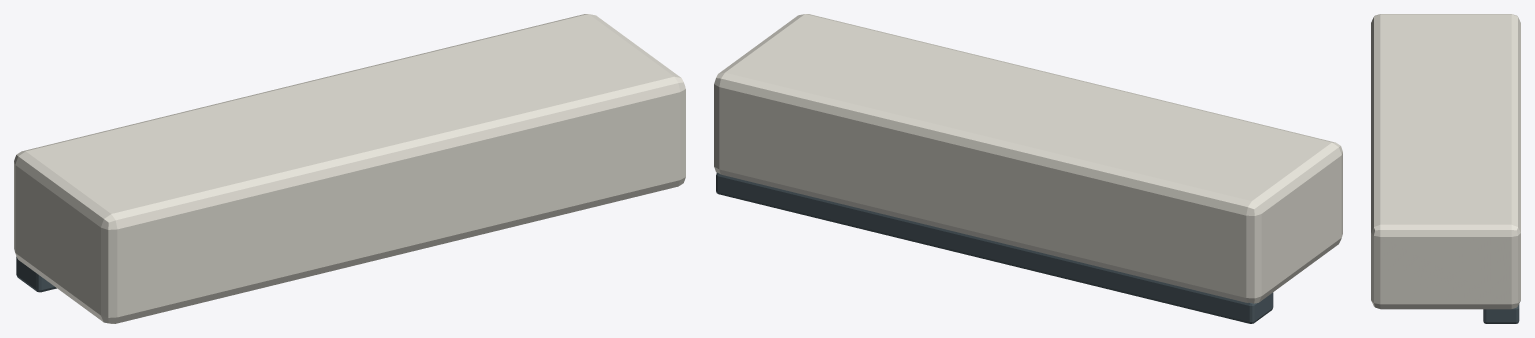
File: FacadeCornice.fbx
The picture shows the model from 3 angles, left to right: view 1: azimuth 30°, elevation 25°; view 2: azimuth 150°, elevation 25°; view 3: azimuth 270°, elevation 25°; orthographic projection. The views are drawn at different scales.
Parts seen in each view (by area): view 1: FacadeCornice_SC_Concrete, FacadeCornice_SC_Metal; view 2: FacadeCornice_SC_Concrete, FacadeCornice_SC_Metal; view 3: FacadeCornice_SC_Concrete, FacadeCornice_SC_Metal.
Boxes of the visible parts, x1,y1,x2,y2 form: FacadeCornice_SC_Concrete: (14,14,685,323); FacadeCornice_SC_Metal: (16,256,56,292); FacadeCornice_SC_Concrete: (714,14,1342,303); FacadeCornice_SC_Metal: (716,172,1273,323); FacadeCornice_SC_Concrete: (1371,14,1520,309); FacadeCornice_SC_Metal: (1483,304,1519,323).
Size of the model in its own units: 1 by 0.21 by 0.29.
